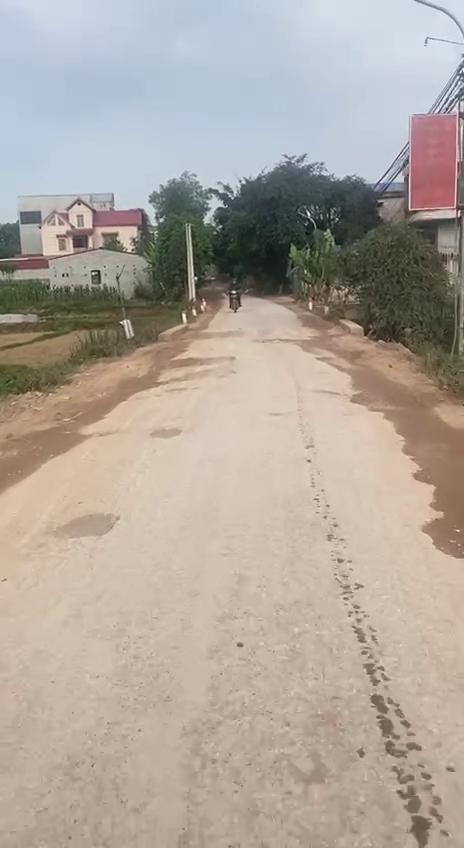pothole: (56, 504, 124, 542)
